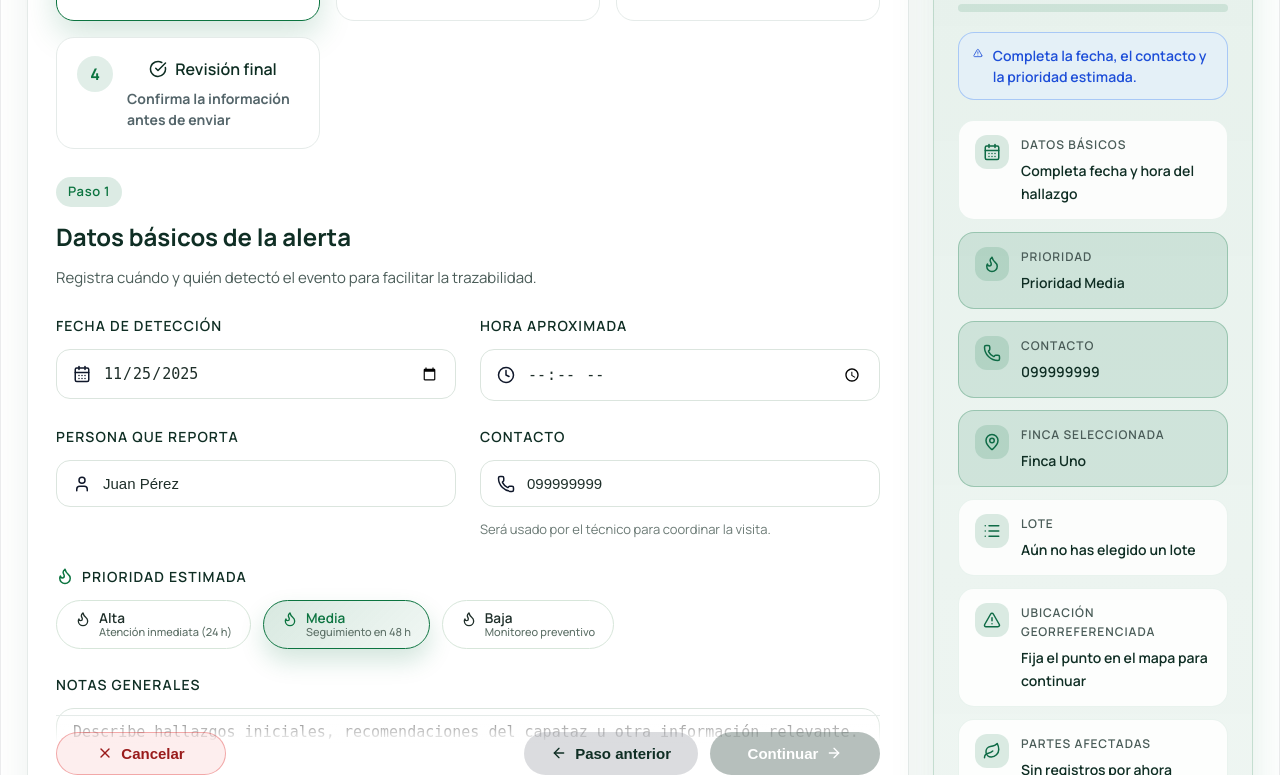
Test: AlertReportForm wizard › enables step progression once datos básicos están completos
(page scrolled)
Expected: the button "Continuar" is disabled, [710,732,880,774]
In the time field labelled "Hora aproximada": coordinates (695, 375) [527,350,863,400], type "08:00"
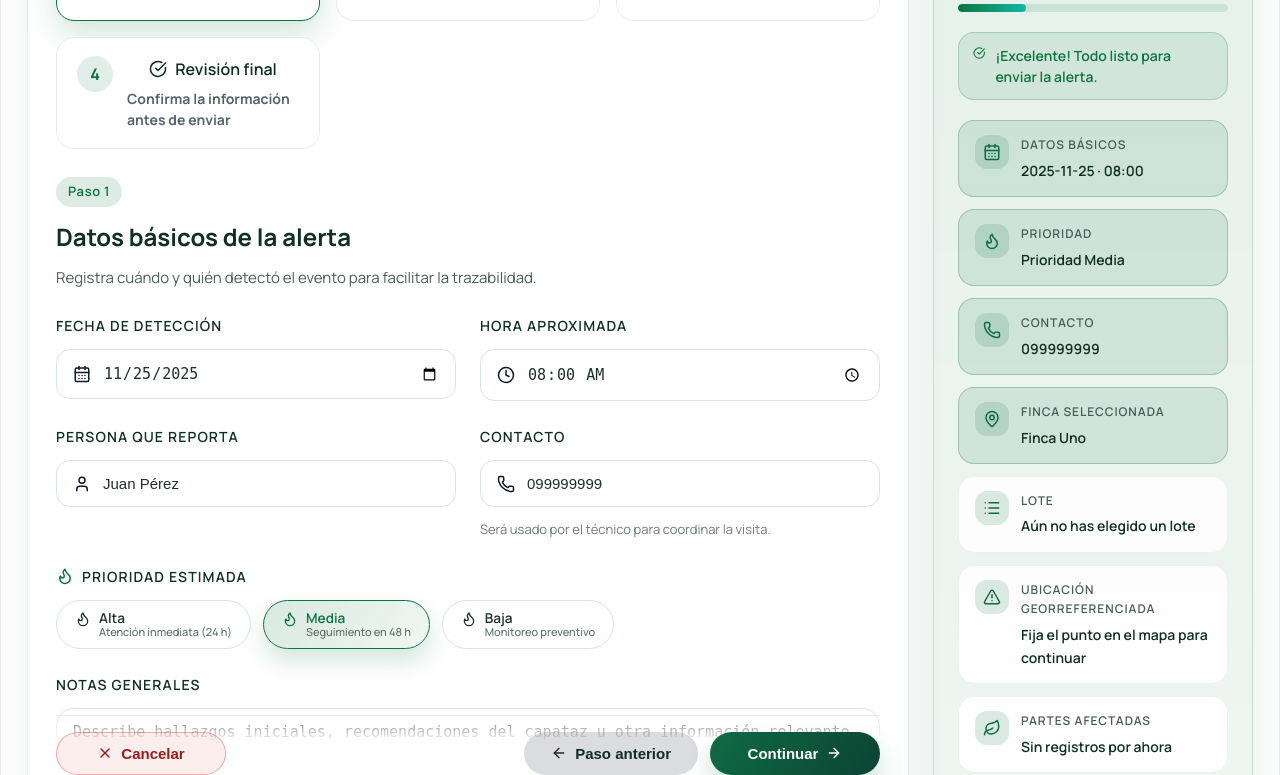
Expected: the button "Continuar" is enabled, [710,732,880,774]
